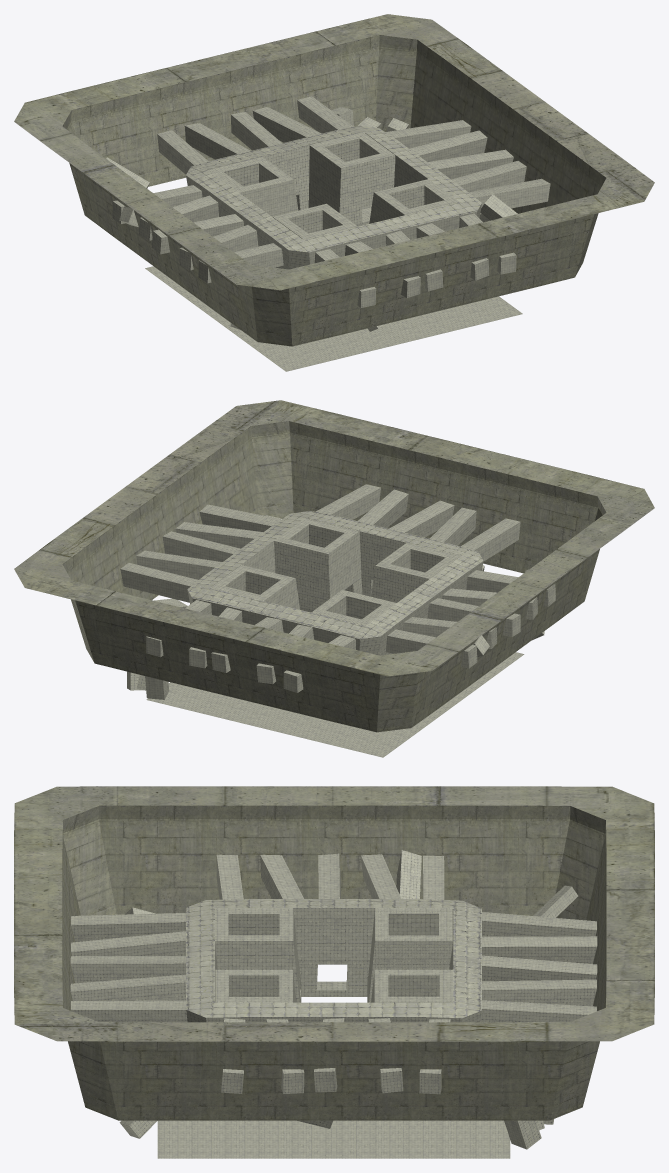
The model's file is SM_LDFest_13_Blockout00.fbx.
3 views of the same model, one above another, from view 1: azimuth 30°, elevation 25°; view 2: azimuth 150°, elevation 25°; view 3: azimuth 270°, elevation 25° (orthographic). The views are drawn at different scales.
Visible parts, largest first — view 1: SM_LDFest_13_Blockout00; view 2: SM_LDFest_13_Blockout00; view 3: SM_LDFest_13_Blockout00.
Boxes of the visible parts, left/top/right/bottom form: SM_LDFest_13_Blockout00: left=14, top=14, right=654, bottom=371; SM_LDFest_13_Blockout00: left=14, top=400, right=654, bottom=757; SM_LDFest_13_Blockout00: left=14, top=786, right=654, bottom=1158.
Bounding box in the file's own units: 7229 × 2284 × 7672.
